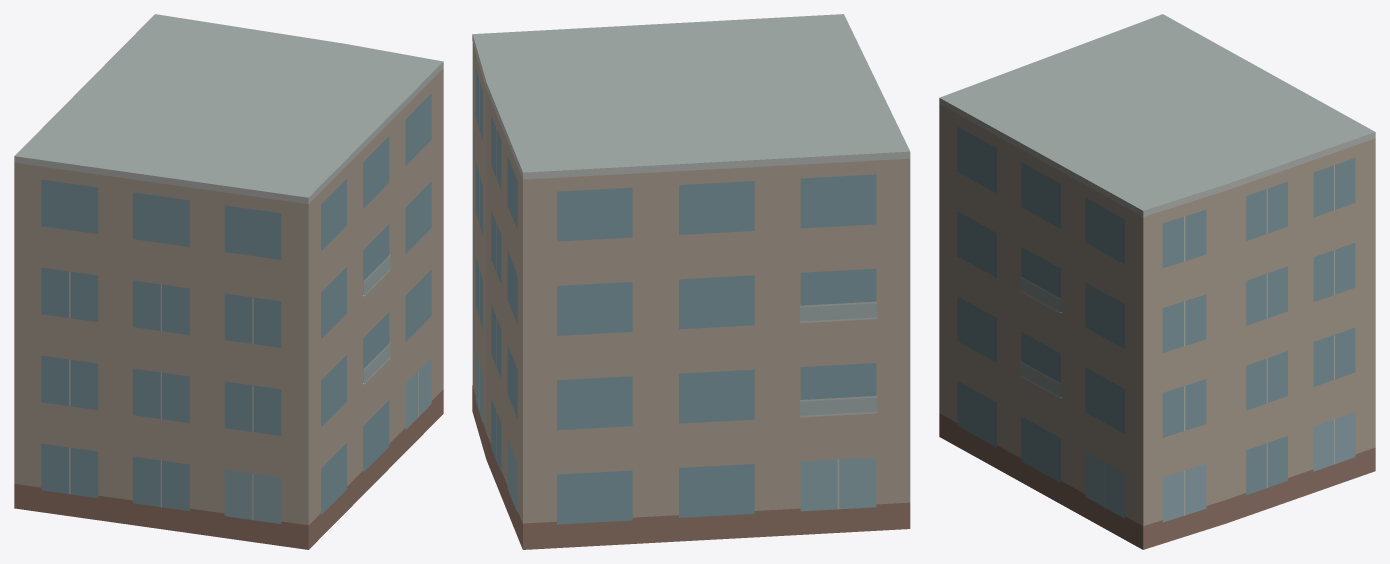
Rendered from survey-upis-32906443.glb.
The picture shows the model from 3 angles, left to right: view 1: azimuth 30°, elevation 25°; view 2: azimuth 150°, elevation 25°; view 3: azimuth 270°, elevation 25°; orthographic projection. The views are drawn at different scales.
Parts seen in each view (by area): view 1: survey-upis-32906443.tmp; view 2: survey-upis-32906443.tmp; view 3: survey-upis-32906443.tmp.
Boxes of the visible parts, bbox=[...] form: survey-upis-32906443.tmp: bbox=[14, 14, 443, 549]; survey-upis-32906443.tmp: bbox=[472, 14, 910, 549]; survey-upis-32906443.tmp: bbox=[939, 14, 1375, 549].
Size of the model in its own units: 16.44 by 13.2 by 15.4.
